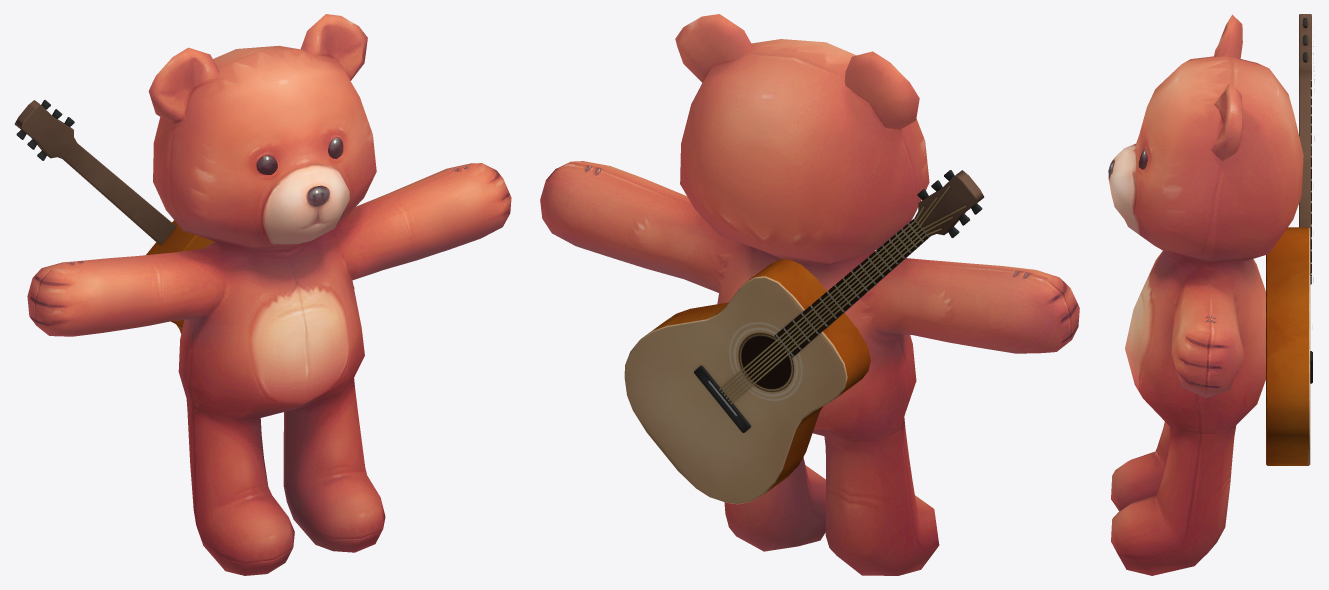
The model's file is OsitoEspanol.glb.
3 views of the same model, side by side, from view 1: azimuth 30°, elevation 25°; view 2: azimuth 150°, elevation 25°; view 3: azimuth 270°, elevation 25° (orthographic). The views are drawn at different scales.
Visible parts, largest first — view 1: Osito, España; view 2: Osito, España; view 3: Osito, España.
Boxes of the visible parts, box(x1,y1,x2,y2) form: Osito: box(27, 14, 511, 575); España: box(14, 100, 354, 333); Osito: box(540, 14, 1079, 575); España: box(624, 170, 984, 504); Osito: box(1108, 14, 1303, 575); España: box(1266, 14, 1314, 465).
Size of the model in its own units: 2.11 by 2.15 by 0.8098.
2 materials, 2 textured.
